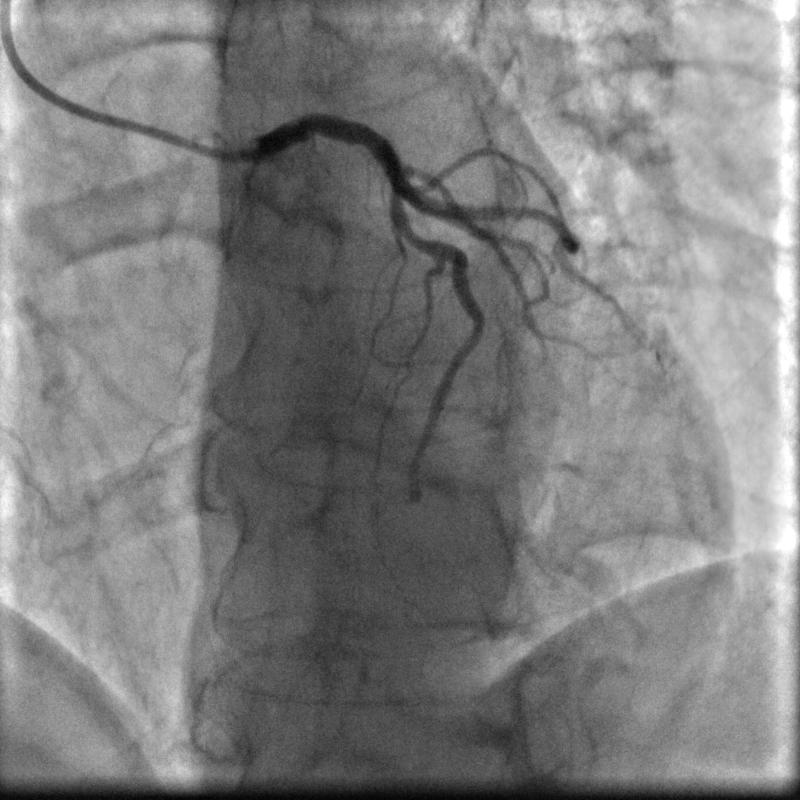Stenosis: (397, 227, 432, 246)
